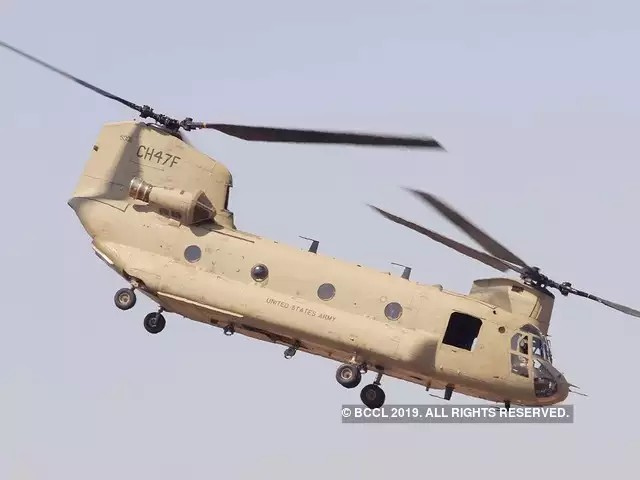chinook: (58, 77, 593, 427)
